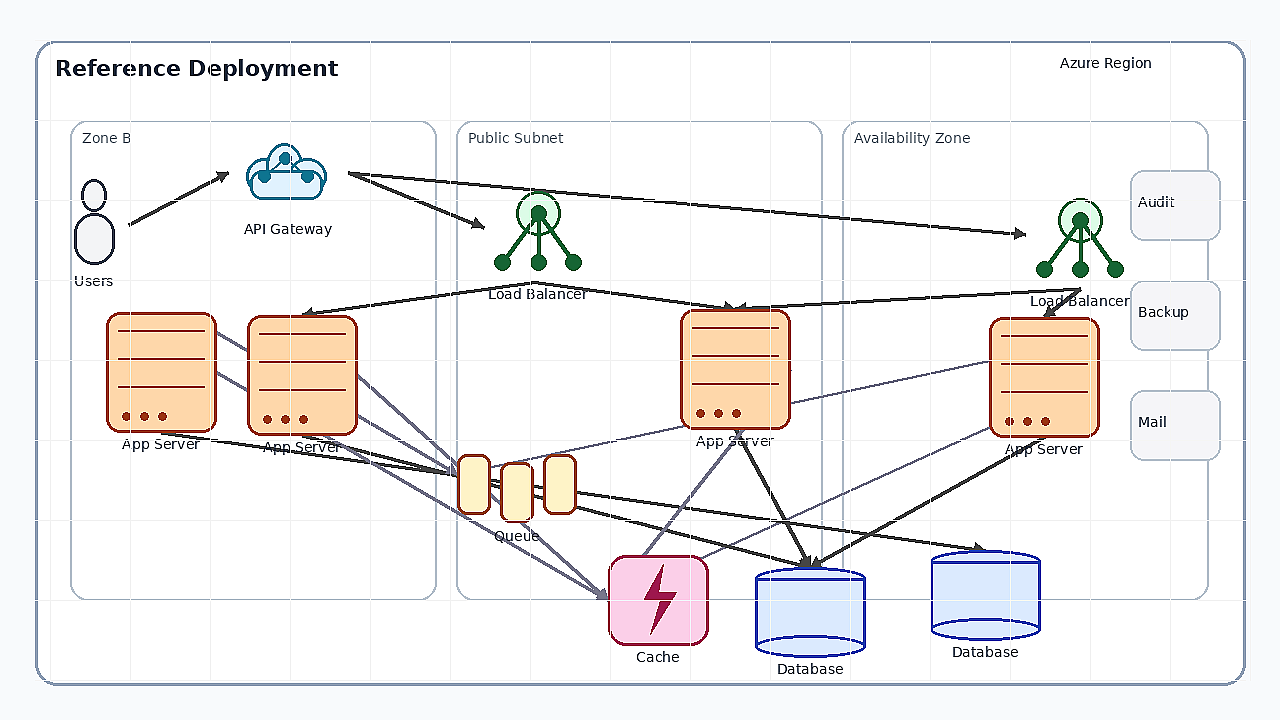API Gateway: (228, 127, 348, 217)
Application Server: (989, 317, 1099, 437), (247, 315, 357, 435), (106, 312, 216, 432), (680, 309, 790, 429)
Cache: (608, 555, 708, 645)
Database: (930, 550, 1040, 640), (755, 567, 865, 657)
Load Balancer: (483, 172, 593, 282), (1025, 179, 1135, 289)
Message Queue: (457, 454, 577, 524)
User: (59, 179, 129, 269)
